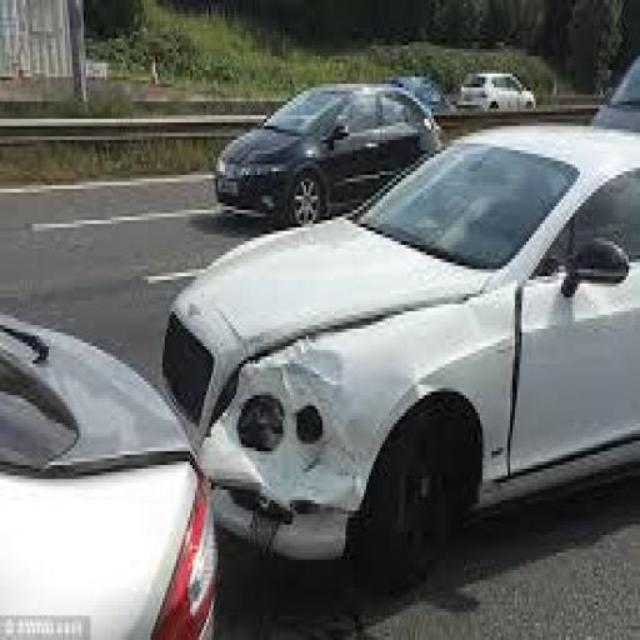dislocated part: (199, 276, 530, 532)
